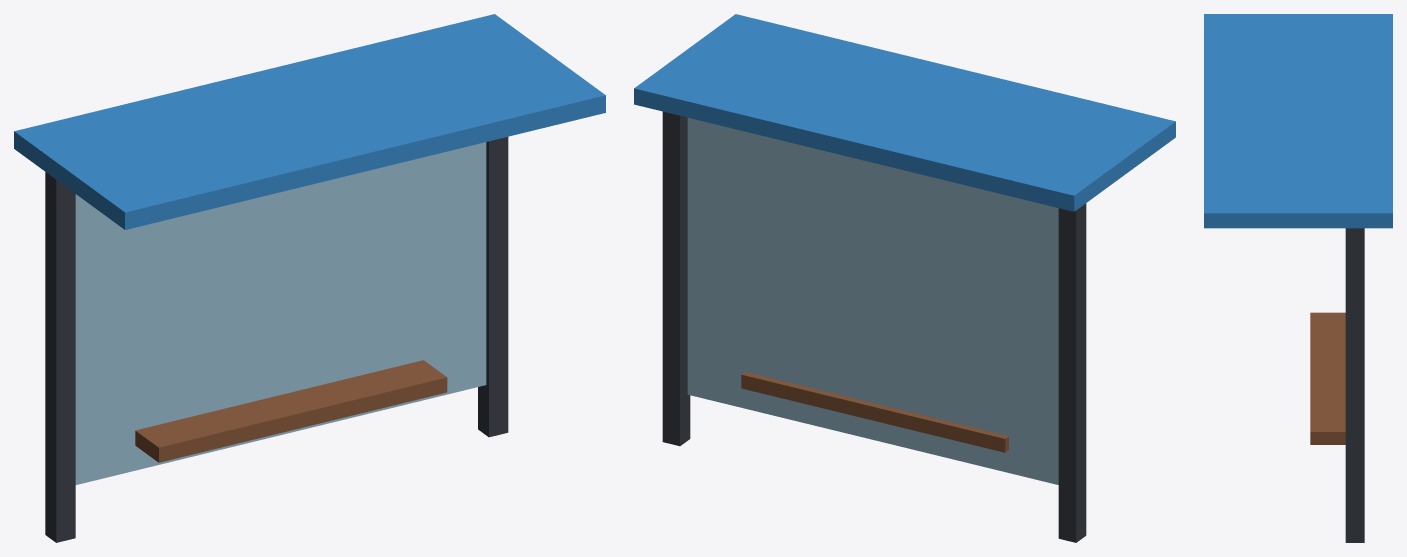
File: P_BusStop.fbx
3 views of the same model, side by side, from view 1: azimuth 30°, elevation 25°; view 2: azimuth 150°, elevation 25°; view 3: azimuth 270°, elevation 25° (orthographic). The views are drawn at different scales.
Parts seen in each view (by area): view 1: P_BusStop.002; view 2: P_BusStop.002; view 3: P_BusStop.002.
Part boxes in pixels (x1,y1,x2,y2): P_BusStop.002: (14,14,605,542); P_BusStop.002: (634,14,1175,542); P_BusStop.002: (1204,14,1392,542).
Size of the model in its own units: 2 by 1.57 by 0.8.
